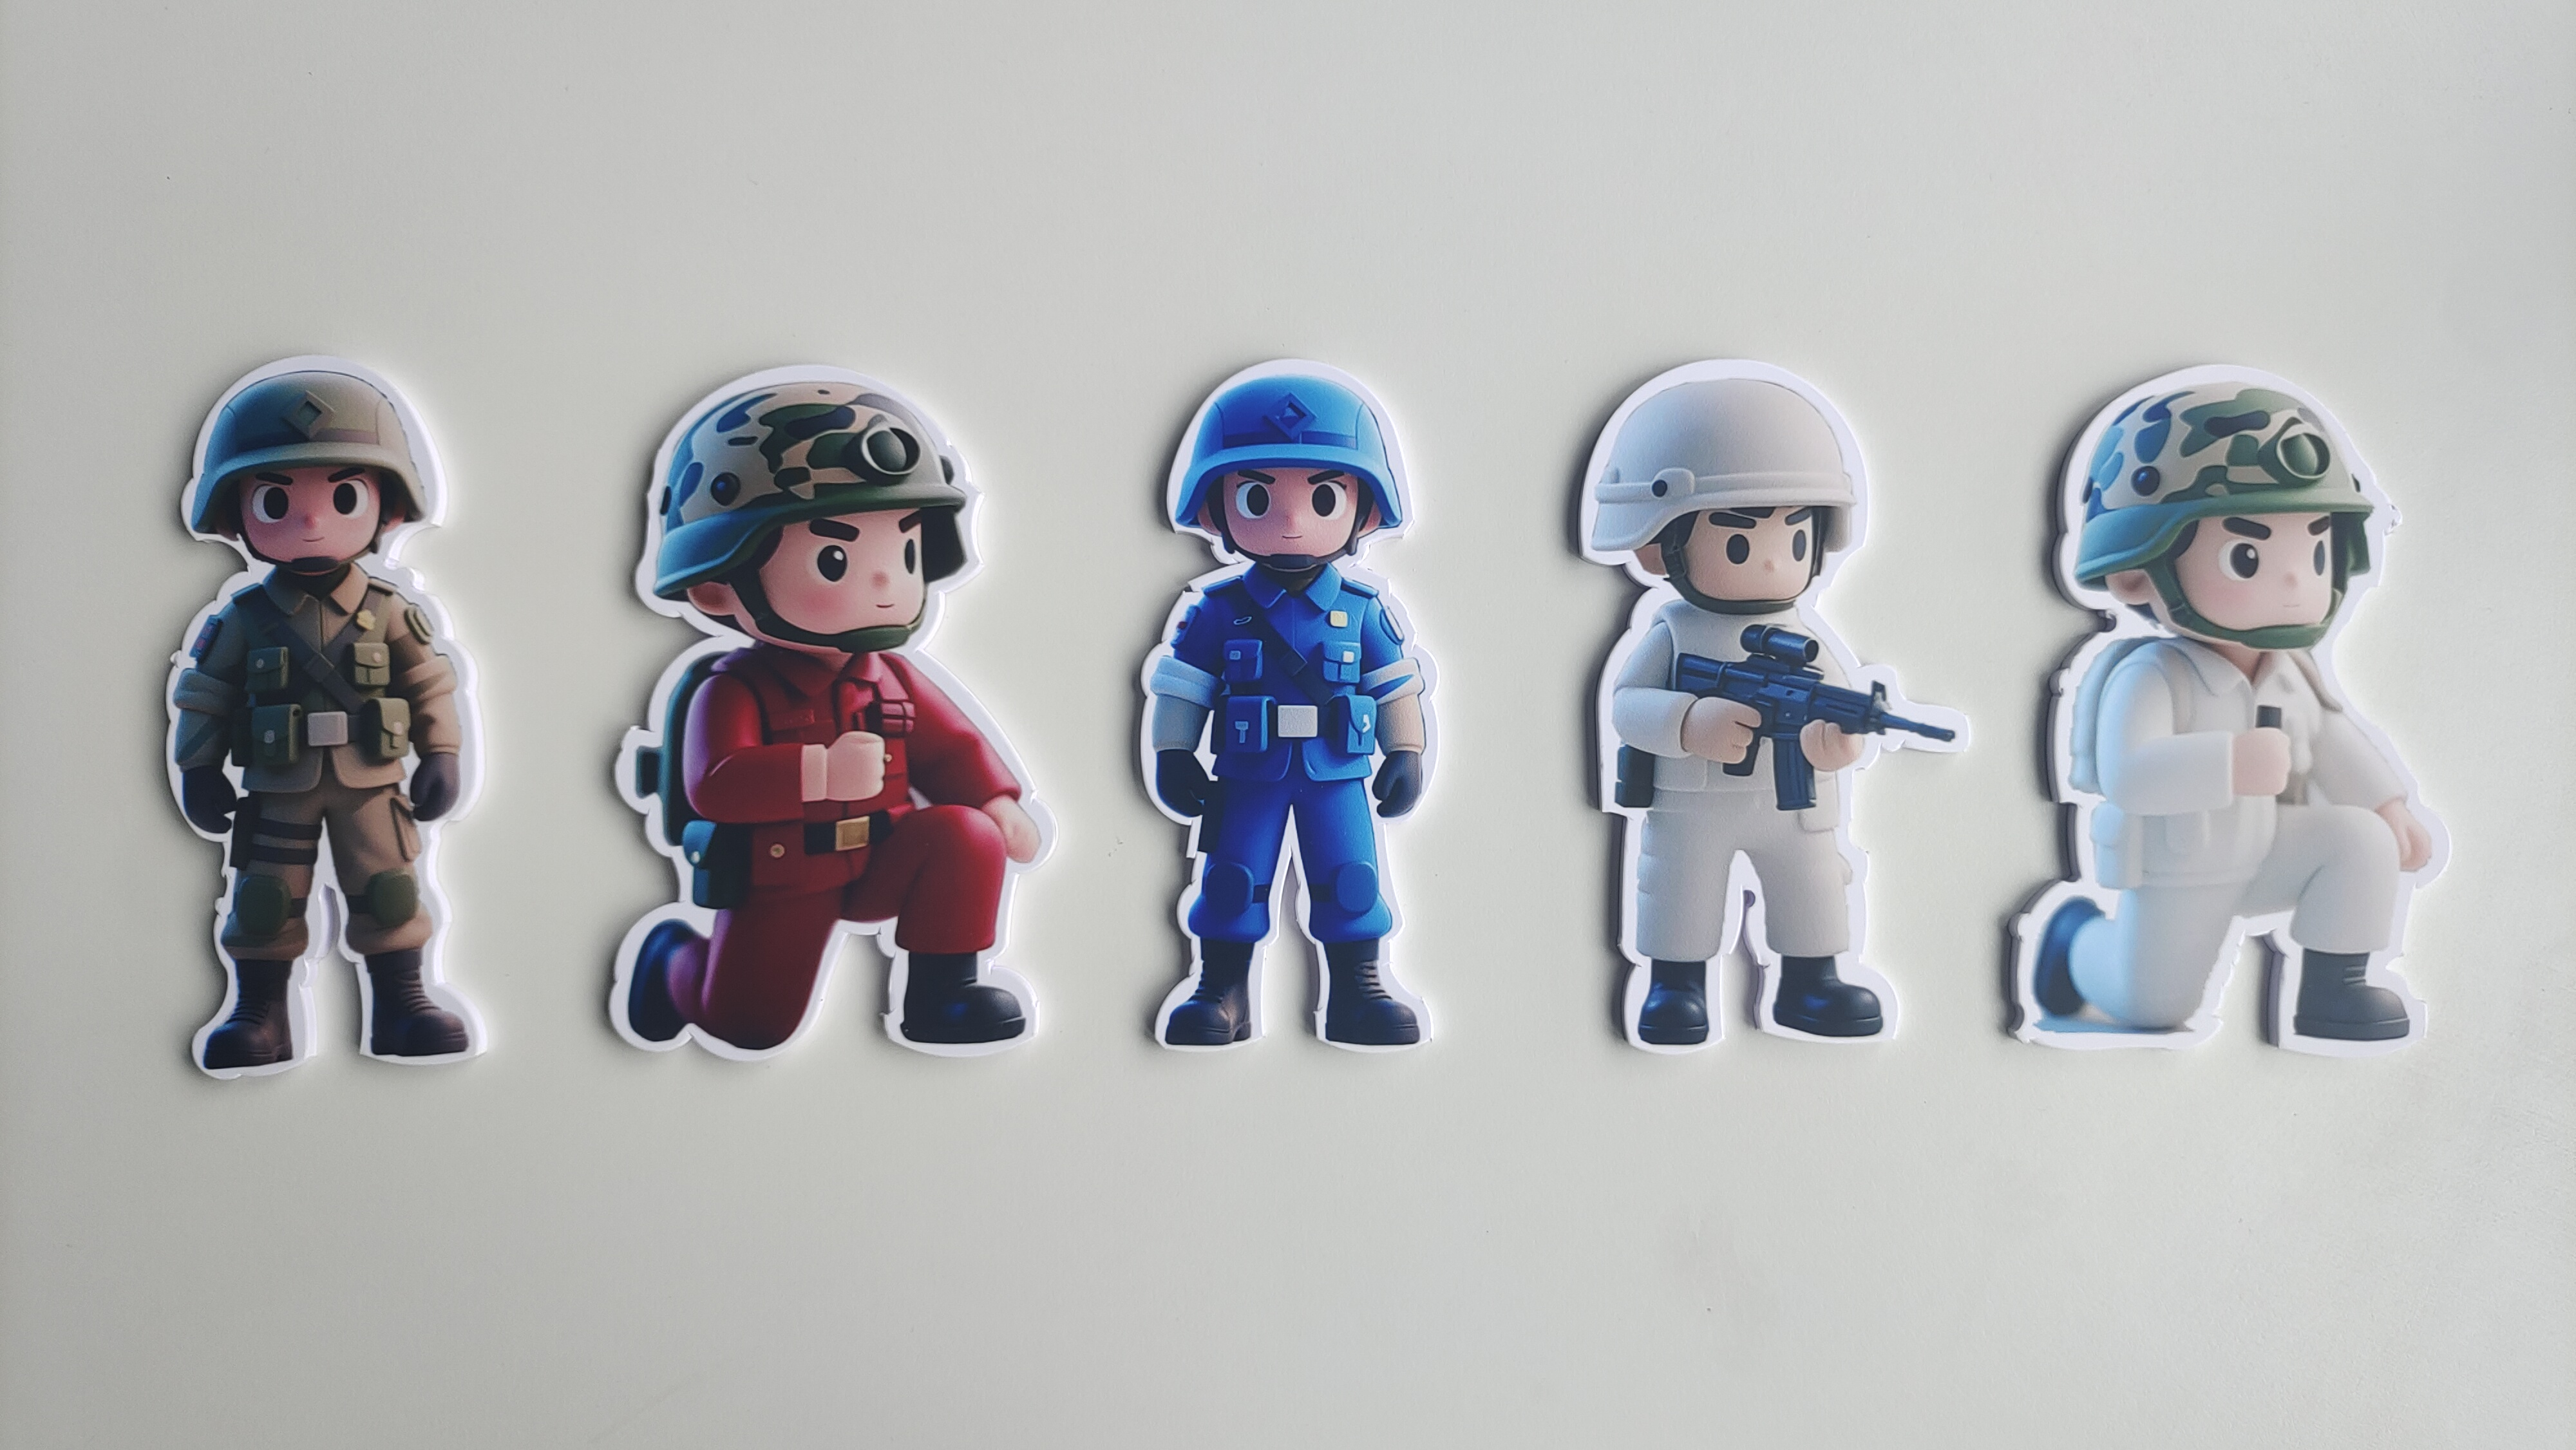enemy1: (591, 644, 1039, 1077)
enemy2: (1120, 573, 1442, 1068)
friend: (149, 569, 502, 1080)
hostage: (1994, 631, 2450, 1073), (1553, 612, 1921, 1073)
